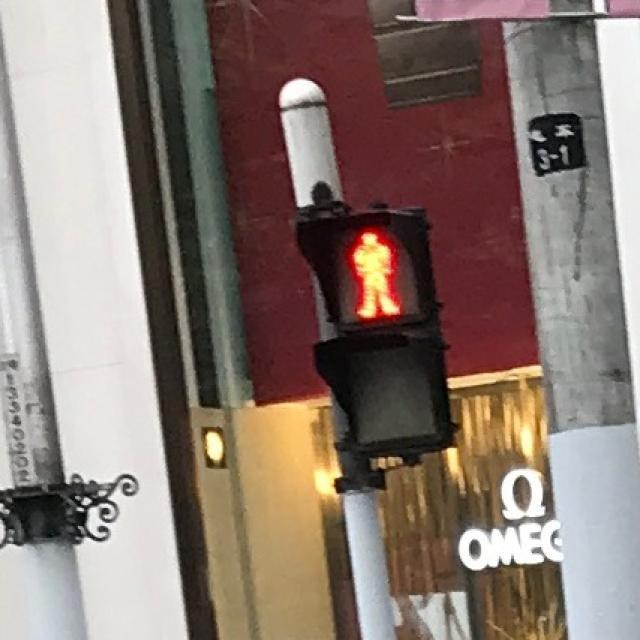red-crossing: (349, 224, 399, 316)
